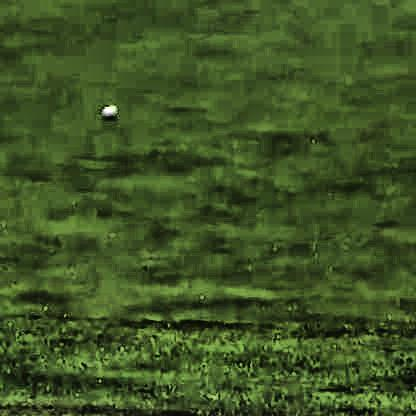golfball: (98, 101, 115, 118)
